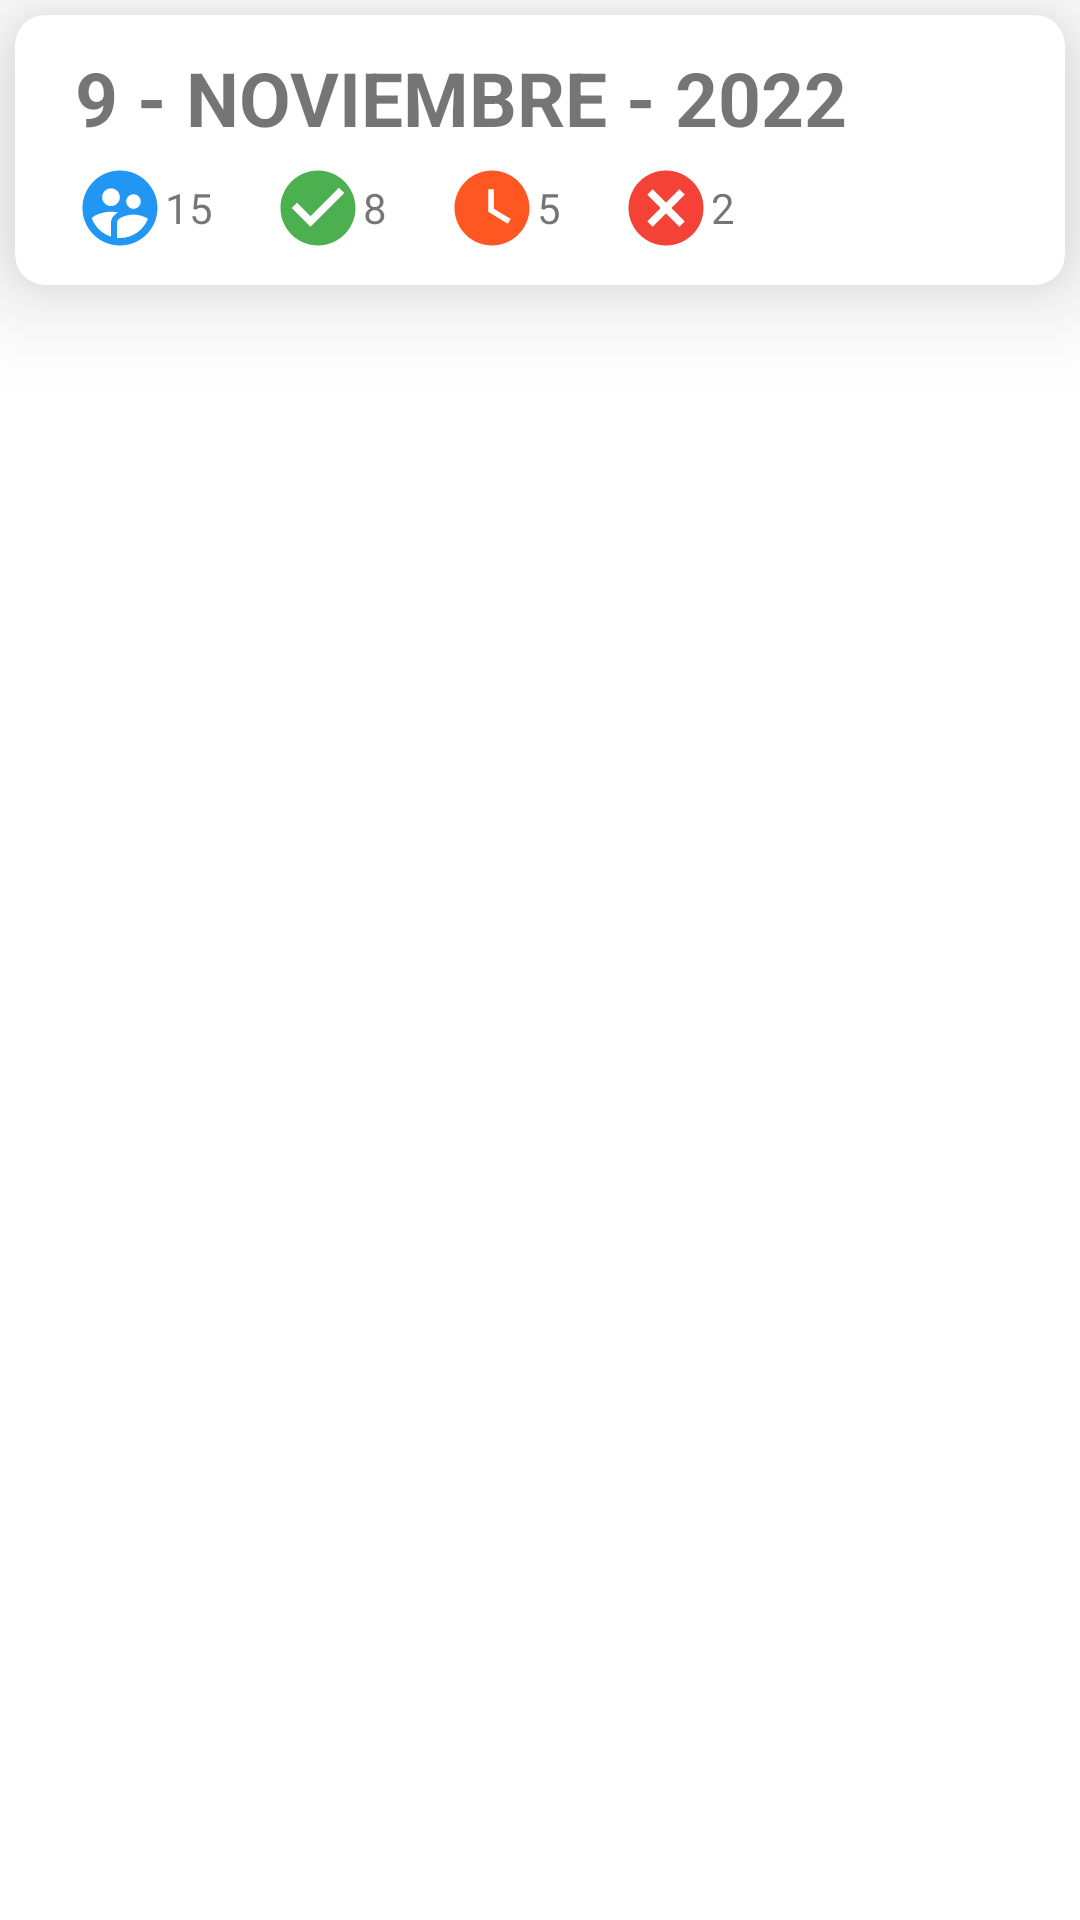

Locate icon controls on the screen. Image size 1080px x 1920px, boxes as (left=x1, top=y1, right=x2, bottom=y2).
alumnos: (left=82, top=170, right=158, bottom=246)
falta: (left=628, top=170, right=704, bottom=246)
tarde: (left=454, top=170, right=530, bottom=246)
temprano: (left=280, top=170, right=356, bottom=246)
